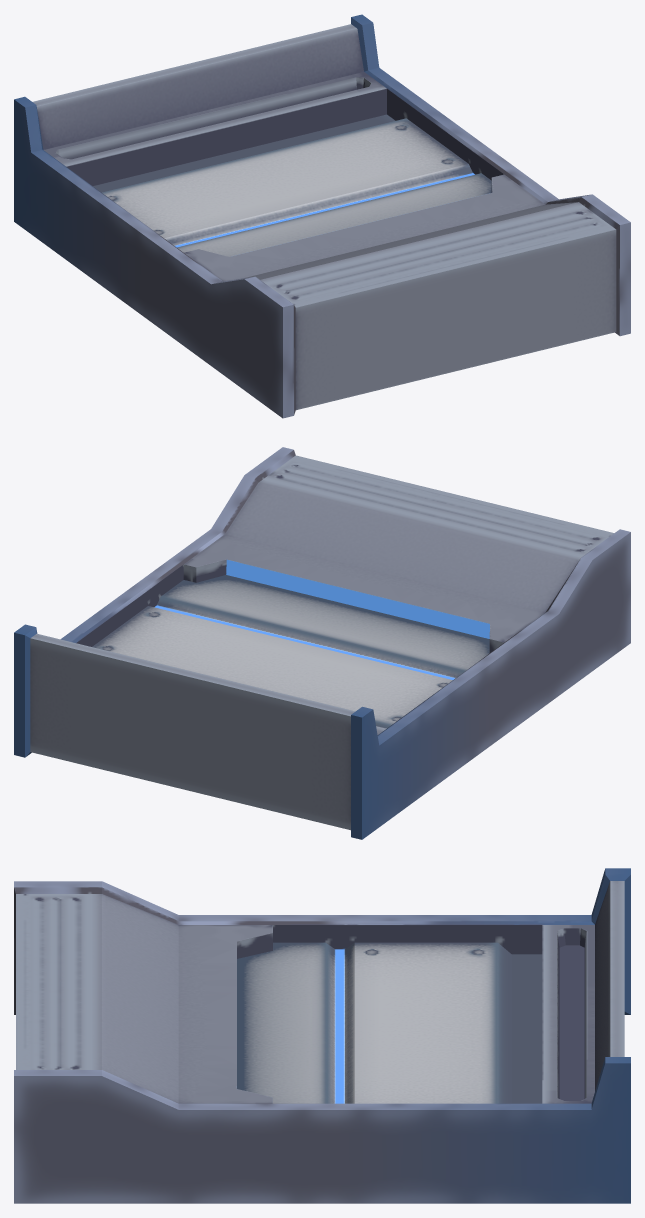
The model's file is hallway3_low.fbx.
3 views of the same model, one above another, from view 1: azimuth 30°, elevation 25°; view 2: azimuth 150°, elevation 25°; view 3: azimuth 270°, elevation 25° (orthographic). The views are drawn at different scales.
Parts seen in each view (by area): view 1: hallway_3_low; view 2: hallway_3_low; view 3: hallway_3_low.
Boxes of the visible parts, x1,y1,x2,y2 form: hallway_3_low: (14,14,630,418); hallway_3_low: (14,447,630,839); hallway_3_low: (14,868,630,1203).
Size of the model in its own units: 300 by 101 by 401.
